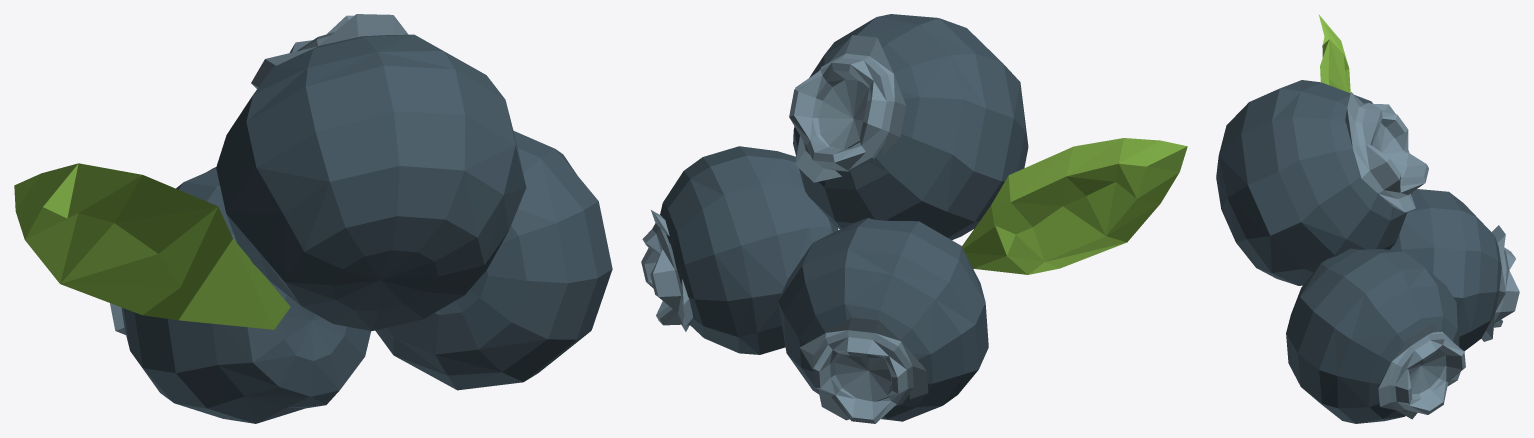
File: Berry_2.fbx
The picture shows the model from 3 angles, left to right: view 1: azimuth 30°, elevation 25°; view 2: azimuth 150°, elevation 25°; view 3: azimuth 270°, elevation 25°; orthographic projection. The views are drawn at different scales.
Parts seen in each view (by area): view 1: model.002; view 2: model.002; view 3: model.002.
Part boxes in pixels (left/top/right/bottom): model.002: left=14, top=14, right=612, bottom=423; model.002: left=641, top=14, right=1187, bottom=423; model.002: left=1216, top=14, right=1519, bottom=423.
Bounding box in the file's own units: 0.582 × 0.3706 × 0.3577.
